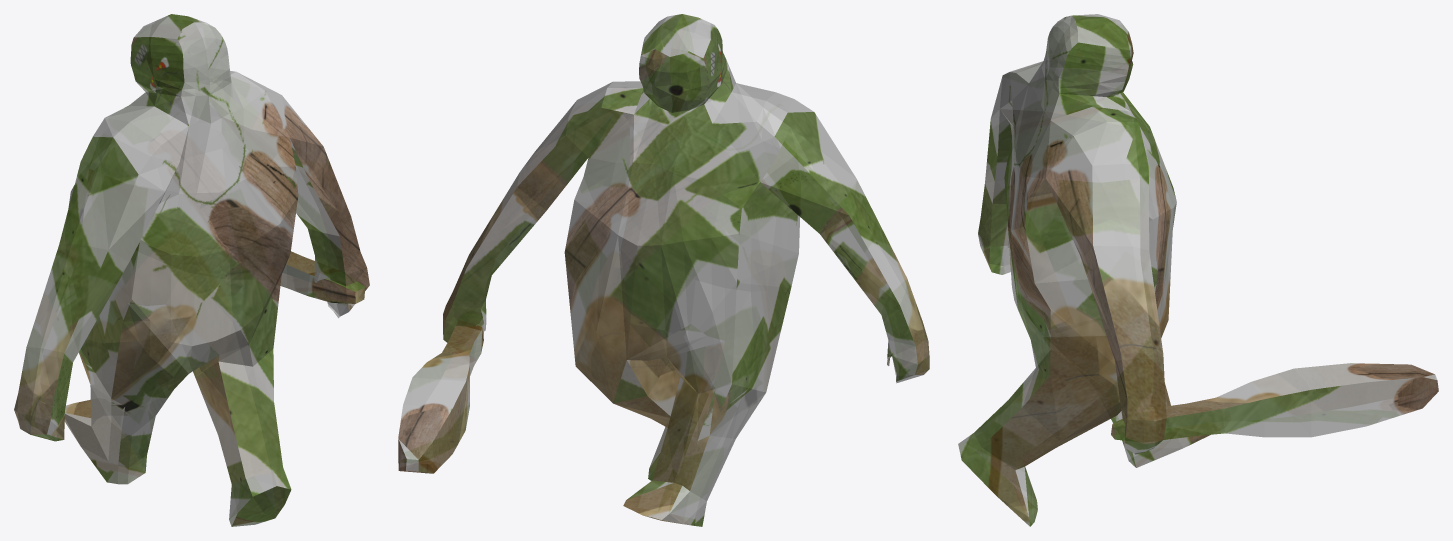
The model's file is Enemigo220.obj.
3 views of the same model, side by side, from view 1: azimuth 30°, elevation 25°; view 2: azimuth 150°, elevation 25°; view 3: azimuth 270°, elevation 25° (orthographic). The views are drawn at different scales.
Visible parts, largest first — view 1: Cube; view 2: Cube; view 3: Cube.
Boxes of the visible parts, bbox=[...] form: Cube: bbox=[14, 14, 369, 526]; Cube: bbox=[398, 14, 929, 526]; Cube: bbox=[958, 14, 1438, 526].
Size of the model in its own units: 2.42 by 2.81 by 2.54.
